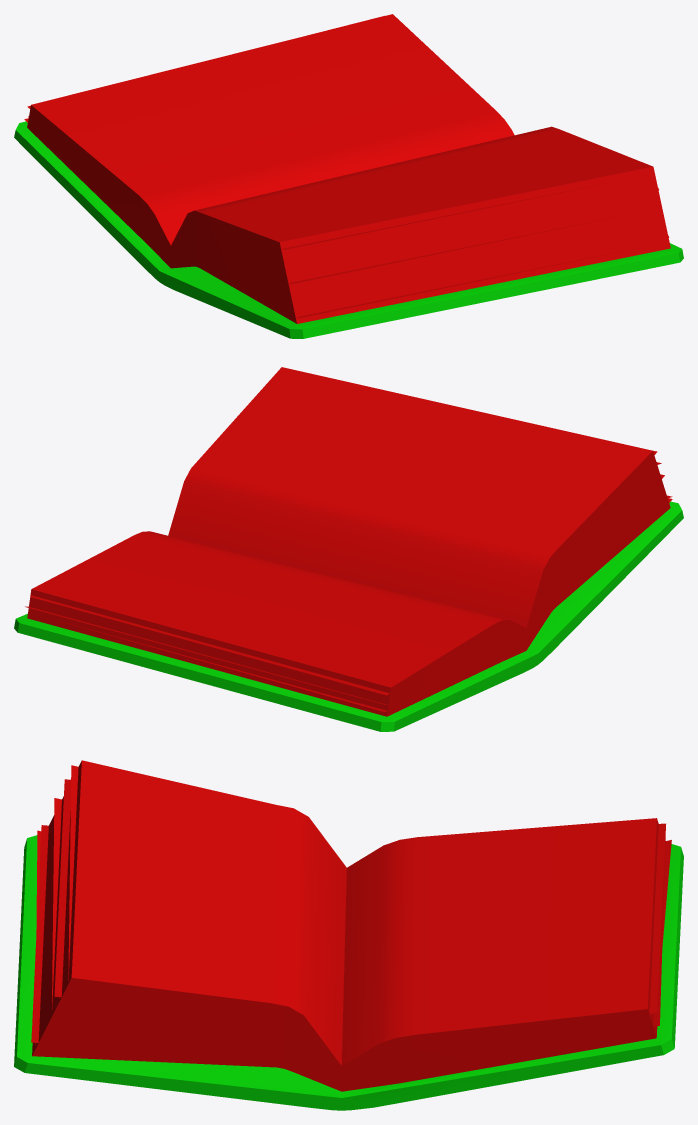
The model's file is spellbook_01.fbx.
3 views of the same model, one above another, from view 1: azimuth 30°, elevation 25°; view 2: azimuth 150°, elevation 25°; view 3: azimuth 270°, elevation 25° (orthographic). The views are drawn at different scales.
Parts seen in each view (by area): view 1: Cube; view 2: Cube; view 3: Cube.
Boxes of the visible parts, box(x1,y1,x2,y2) form: Cube: box(14, 14, 683, 338); Cube: box(14, 367, 683, 731); Cube: box(14, 760, 683, 1110).
Bounding box in the file's own units: 49.94 × 65.53 × 15.41.
